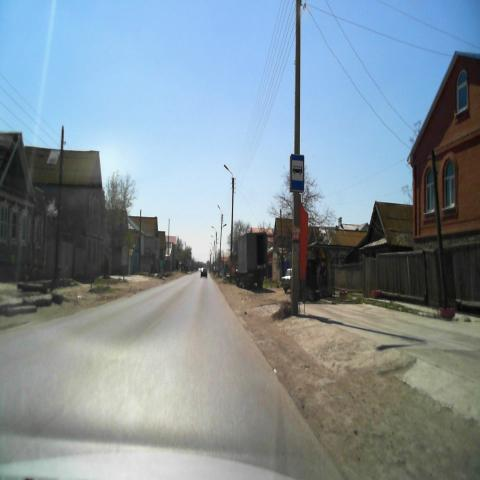5_16: (290, 153, 305, 192)
